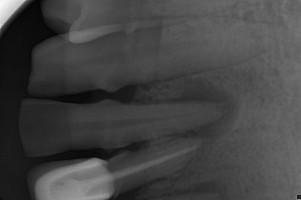Furcation Involvement: (160, 75, 241, 138), (165, 181, 232, 200)
